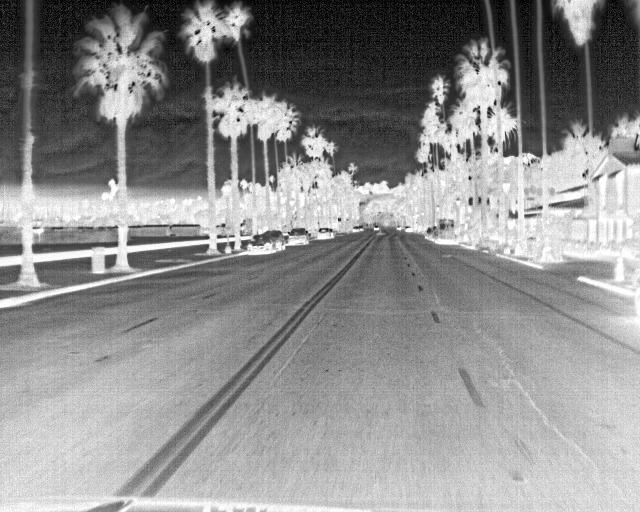car: (241, 235, 275, 254), (435, 217, 457, 244), (261, 228, 287, 250), (285, 225, 312, 245), (317, 226, 335, 240), (422, 227, 433, 240)
